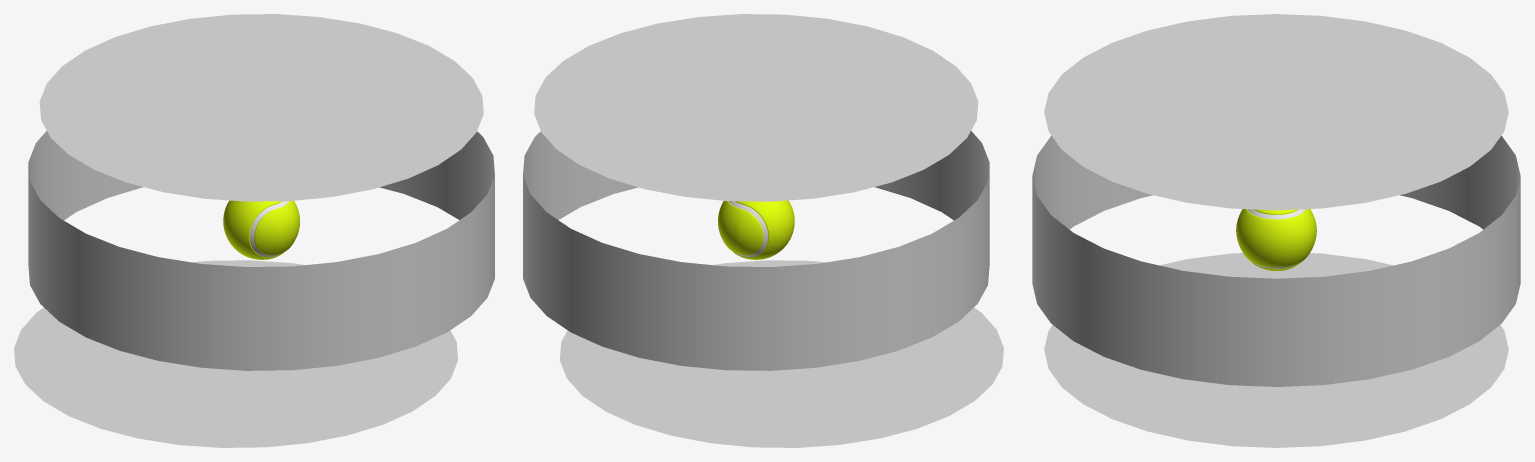
Rendered from Tennis_Ball.fbx.
3 renders of one model, left to right at view 1: azimuth 30°, elevation 25°; view 2: azimuth 150°, elevation 25°; view 3: azimuth 270°, elevation 25°, orthographic. The views are drawn at different scales.
Parts seen in each view (by area): view 1: light up, light 360, light down, Sphere; view 2: light up, light 360, light down, Sphere; view 3: light up, light 360, light down, Sphere.
Part boxes in pixels (<box>): light up: <box>39,14,483,201</box>; light 360: <box>28,131,494,370</box>; light down: <box>14,260,457,447</box>; Sphere: <box>223,200,299,259</box>; light up: <box>534,14,978,201</box>; light 360: <box>523,131,989,370</box>; light down: <box>560,260,1003,447</box>; Sphere: <box>718,200,794,259</box>; light up: <box>1044,14,1508,210</box>; light 360: <box>1032,136,1520,386</box>; light down: <box>1044,253,1508,447</box>; Sphere: <box>1236,209,1316,270</box>.
Size of the model in its own units: 49.18 by 26.81 by 47.32.
